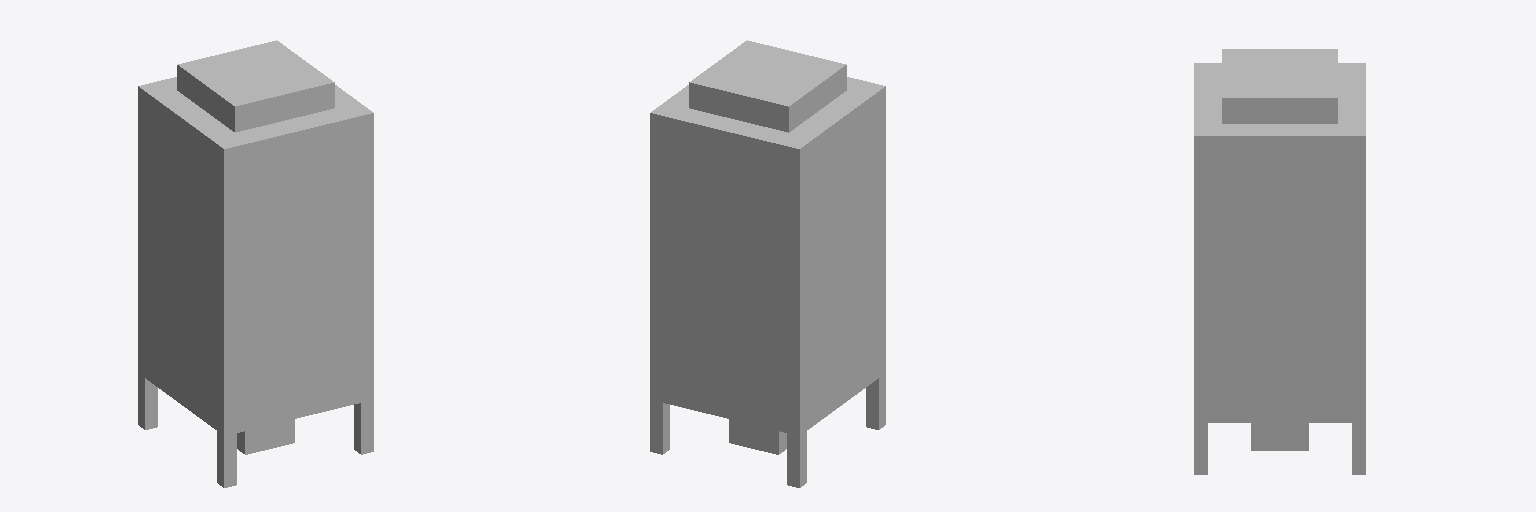
The model's file is silo.obj.
3 views of the same model, side by side, from view 1: azimuth 30°, elevation 25°; view 2: azimuth 150°, elevation 25°; view 3: azimuth 270°, elevation 25° (orthographic).
Visible parts, largest first — view 1: tank, bottom, fence2, fence4, fence1; view 2: tank, bottom, fence1, fence3, fence2; view 3: tank, bottom, fence3, fence4.
Part boxes in pixels (bbox=[...]): tank: bbox=[138, 40, 373, 435]; bottom: bbox=[237, 419, 294, 454]; fence2: bbox=[217, 431, 236, 487]; fence4: bbox=[354, 400, 373, 454]; fence1: bbox=[138, 373, 157, 429]; tank: bbox=[650, 40, 885, 435]; bottom: bbox=[729, 419, 786, 454]; fence1: bbox=[787, 431, 806, 487]; fence3: bbox=[650, 400, 669, 454]; fence2: bbox=[866, 373, 885, 429]; tank: bbox=[1194, 49, 1365, 422]; bottom: bbox=[1251, 423, 1308, 450]; fence3: bbox=[1352, 423, 1365, 474]; fence4: bbox=[1194, 423, 1207, 474].
Size of the model in its own units: 3 by 7 by 3.